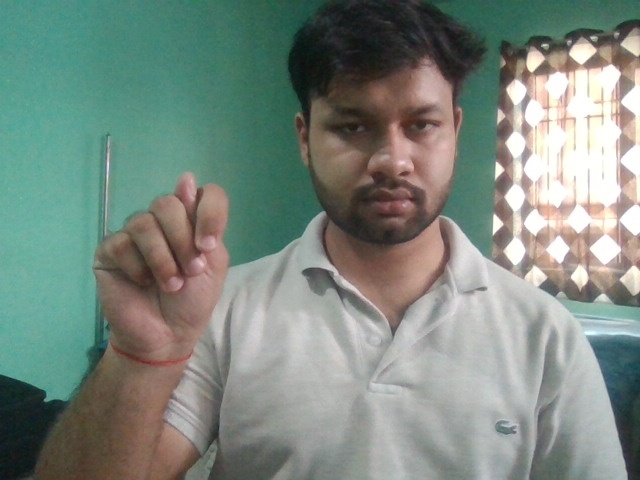Bathroom: (83, 165, 241, 387)
